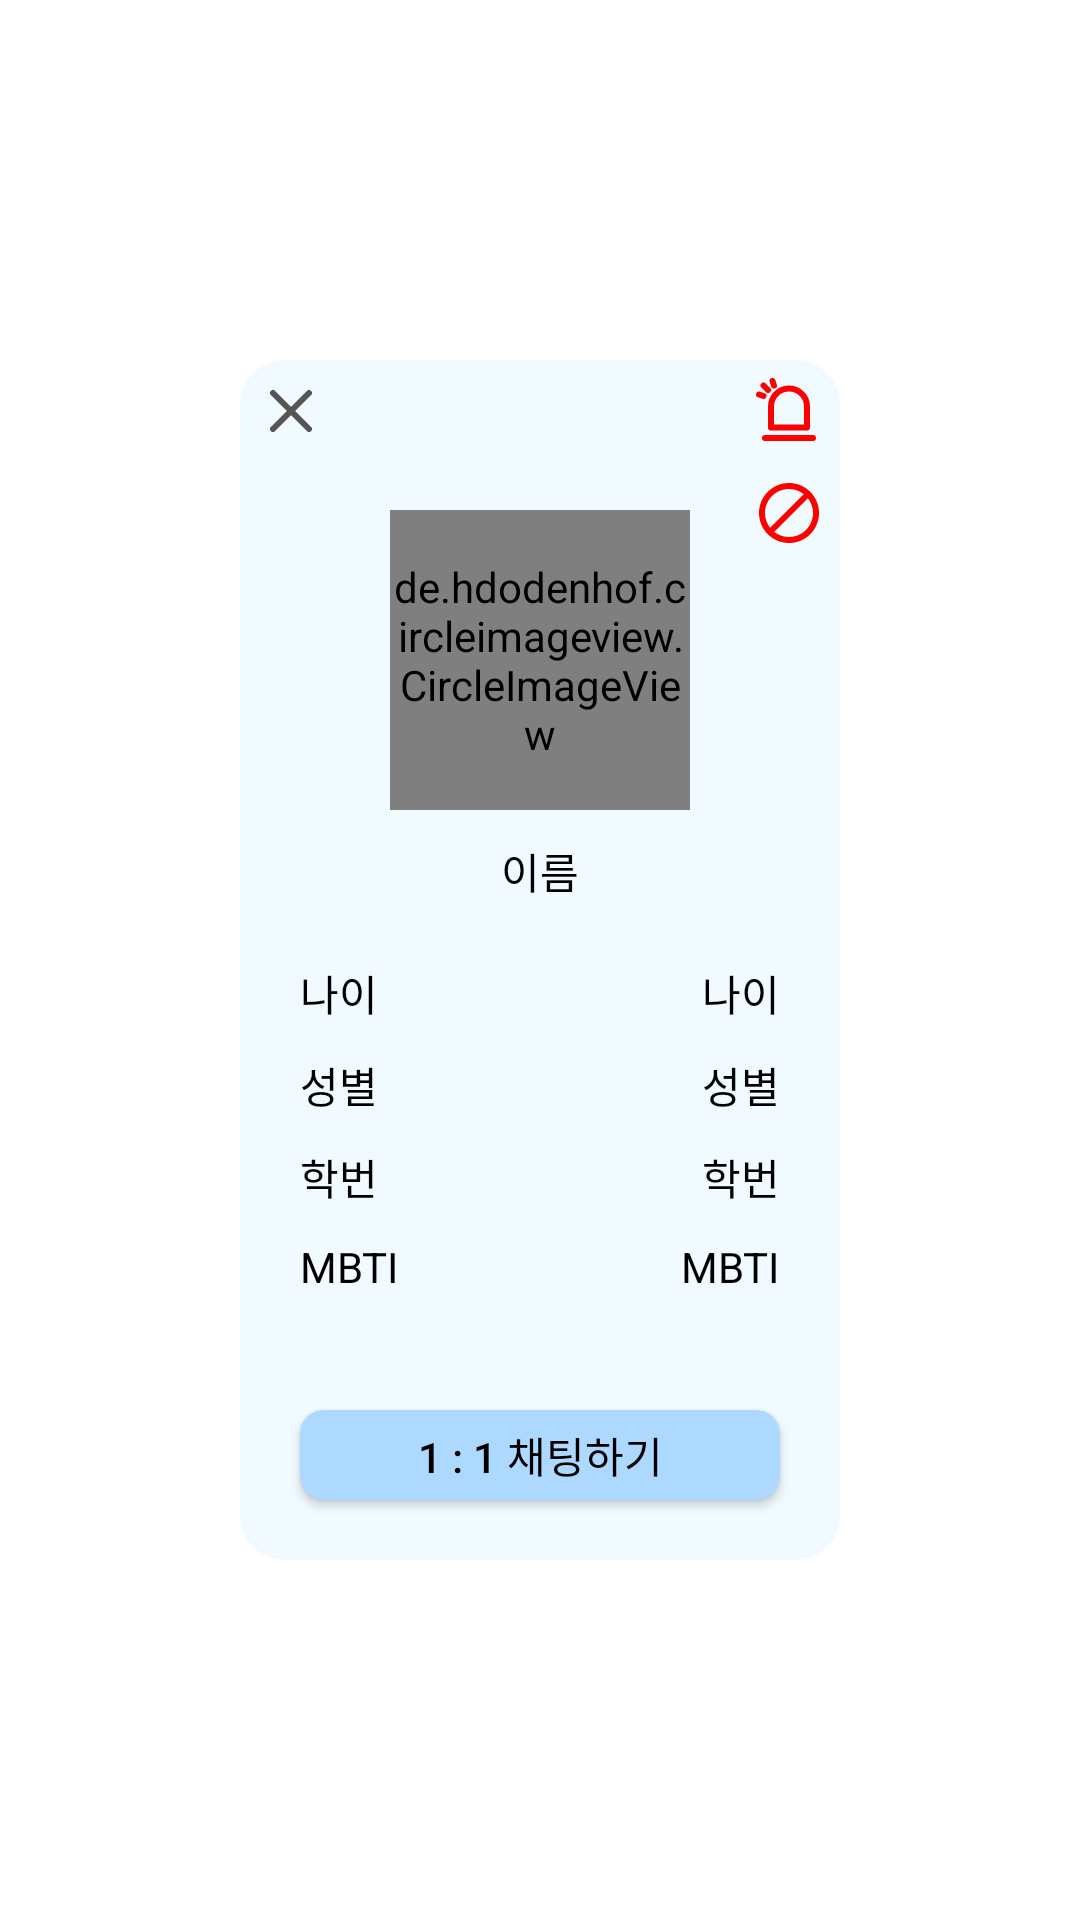

Where icons sit on this 1080*1920 app screen, as (x1, y1, x2, y2):
block: (759, 483, 819, 543)
report: (756, 378, 816, 441)
